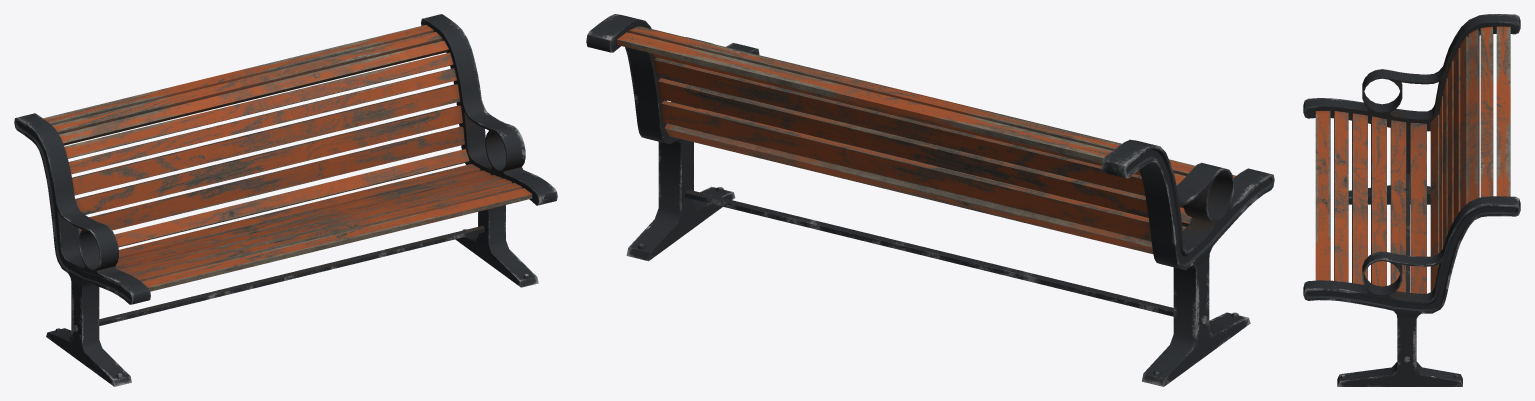
The model's file is Bench.fbx.
3 renders of one model, left to right at view 1: azimuth 30°, elevation 25°; view 2: azimuth 150°, elevation 25°; view 3: azimuth 270°, elevation 25°, orthographic. The views are drawn at different scales.
Visible parts, largest first — view 1: Bench; view 2: Bench; view 3: Bench.
Part boxes in pixels (<box>): Bench: <box>14,14,557,386</box>; Bench: <box>586,14,1274,386</box>; Bench: <box>1303,14,1520,386</box>.
Bounding box in the file's own units: 77.84 × 34.5 × 37.19.
1 material, 1 textured.
